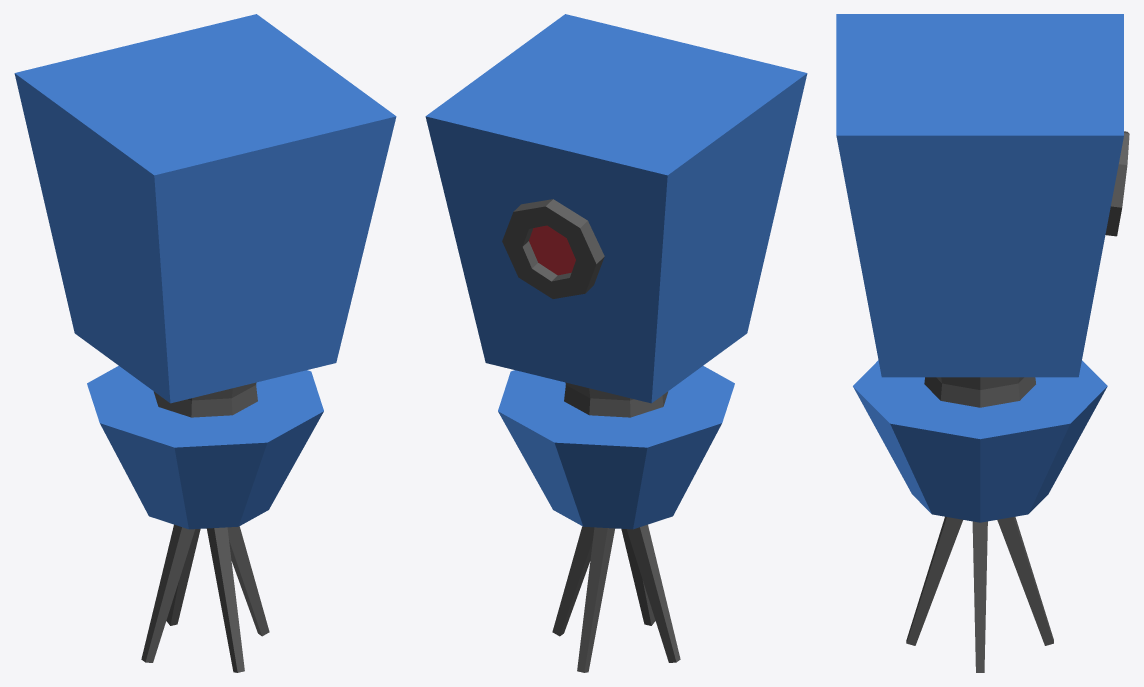
The model's file is EnemyRobot.fbx.
3 renders of one model, left to right at view 1: azimuth 30°, elevation 25°; view 2: azimuth 150°, elevation 25°; view 3: azimuth 270°, elevation 25°, orthographic. The views are drawn at different scales.
Parts seen in each view (by area): view 1: TestaRobot, CorpoRobot; view 2: TestaRobot, CorpoRobot, OcchioRobot; view 3: TestaRobot, CorpoRobot, OcchioRobot.
Part boxes in pixels (x1,y1,x2,y2): TestaRobot: [14, 14, 396, 403]; CorpoRobot: [87, 366, 323, 672]; TestaRobot: [425, 14, 807, 403]; CorpoRobot: [498, 366, 734, 672]; OcchioRobot: [502, 199, 604, 298]; TestaRobot: [836, 14, 1123, 377]; CorpoRobot: [853, 360, 1107, 672]; OcchioRobot: [1105, 131, 1129, 236].
Bounding box in the file's own units: 0.5 × 1.09 × 0.5096.
